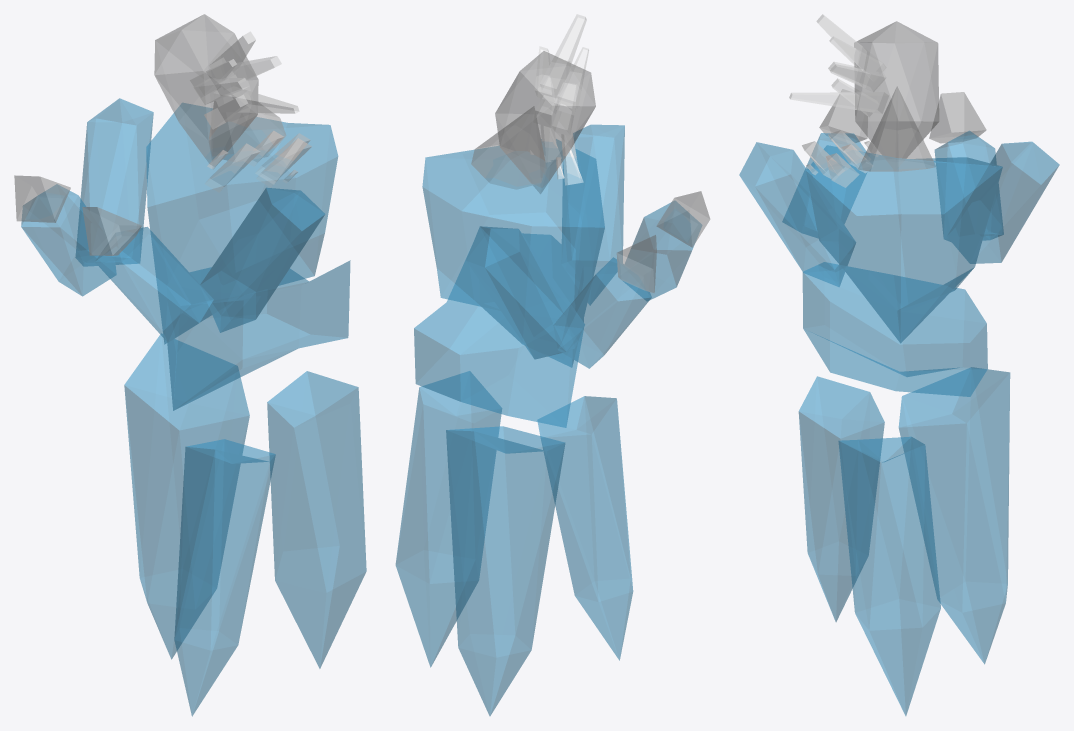
The model's file is ghostDistanceAttack16.obj.
3 renders of one model, left to right at view 1: azimuth 30°, elevation 25°; view 2: azimuth 150°, elevation 25°; view 3: azimuth 270°, elevation 25°, orthographic. The views are drawn at different scales.
Parts seen in each view (by area): view 1: Cube.001_Cube.007, Icosphere.020, Icosphere.019, Icosphere.018, Cube_Cube.007, Icosphere.003_Icosphere.007, Icosphere.005_Icosphere.007, Icosphere.007_Icosphere.006, Icosphere.006_Icosphere.006, Icosphere.008_Icosphere.006, Cone_Cone.007, Cube.003_Cube.007 (+10 smaller); view 2: Cube.001_Cube.007, Icosphere.020, Icosphere.019, Cube_Cube.007, Icosphere.018, Icosphere.003_Icosphere.007, Icosphere.005_Icosphere.007, Icosphere.007_Icosphere.006, Icosphere.008_Icosphere.006, Icosphere.006_Icosphere.006, Cone_Cone.007, Cube.002_Cube.007 (+5 smaller); view 3: Cube.001_Cube.007, Icosphere.020, Icosphere.019, Cube_Cube.007, Icosphere.018, Icosphere.003_Icosphere.007, Icosphere.005_Icosphere.007, Icosphere.007_Icosphere.006, Icosphere.008_Icosphere.006, Cone_Cone.007, Icosphere.006_Icosphere.006, Cube.003_Cube.007 (+6 smaller).
Part boxes in pixels (x1,y1,x2,y2): Cube.001_Cube.007: (146,103,338,344); Icosphere.020: (124,333,249,659); Icosphere.019: (267,371,366,668); Icosphere.018: (174,439,275,716); Cube_Cube.007: (167,260,350,410); Icosphere.003_Icosphere.007: (154,14,258,163); Icosphere.005_Icosphere.007: (200,187,324,332); Icosphere.007_Icosphere.006: (75,98,153,266); Icosphere.006_Icosphere.006: (95,227,213,342); Icosphere.008_Icosphere.006: (21,184,116,296); Cone_Cone.007: (209,101,286,160); Cube.003_Cube.007: (14,175,70,222); Cube.001_Cube.007: (422,139,604,367); Icosphere.020: (446,426,565,715); Icosphere.019: (395,371,501,667); Cube_Cube.007: (414,233,583,427); Icosphere.018: (537,396,633,660); Icosphere.003_Icosphere.007: (495,51,595,193); Icosphere.005_Icosphere.007: (561,124,624,305); Icosphere.007_Icosphere.006: (466,226,584,359); Icosphere.008_Icosphere.006: (553,257,651,368); Icosphere.006_Icosphere.006: (623,201,701,300); Cone_Cone.007: (471,106,544,189); Cube.002_Cube.007: (656,191,710,247); Cube.001_Cube.007: (806,145,1002,343); Icosphere.020: (898,367,1010,664); Icosphere.019: (838,436,940,715); Cube_Cube.007: (802,262,987,396); Icosphere.018: (798,376,884,621); Icosphere.003_Icosphere.007: (854,21,939,160); Icosphere.005_Icosphere.007: (739,142,855,286); Icosphere.007_Icosphere.006: (947,141,1059,263); Icosphere.008_Icosphere.006: (934,130,1003,241); Cone_Cone.007: (858,86,935,171); Icosphere.006_Icosphere.006: (782,133,866,237); Cube.003_Cube.007: (929,92,986,143).
Bounding box in the file's own units: 20.11 × 44.25 × 19.81.
